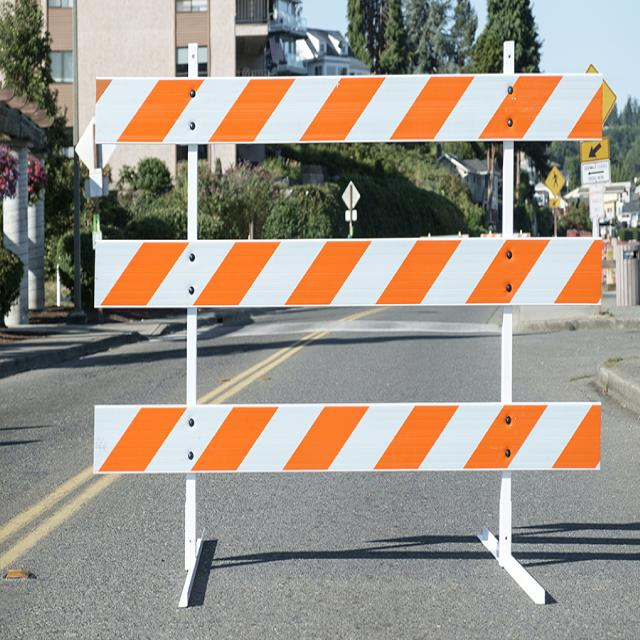cone: (80, 56, 609, 610)
